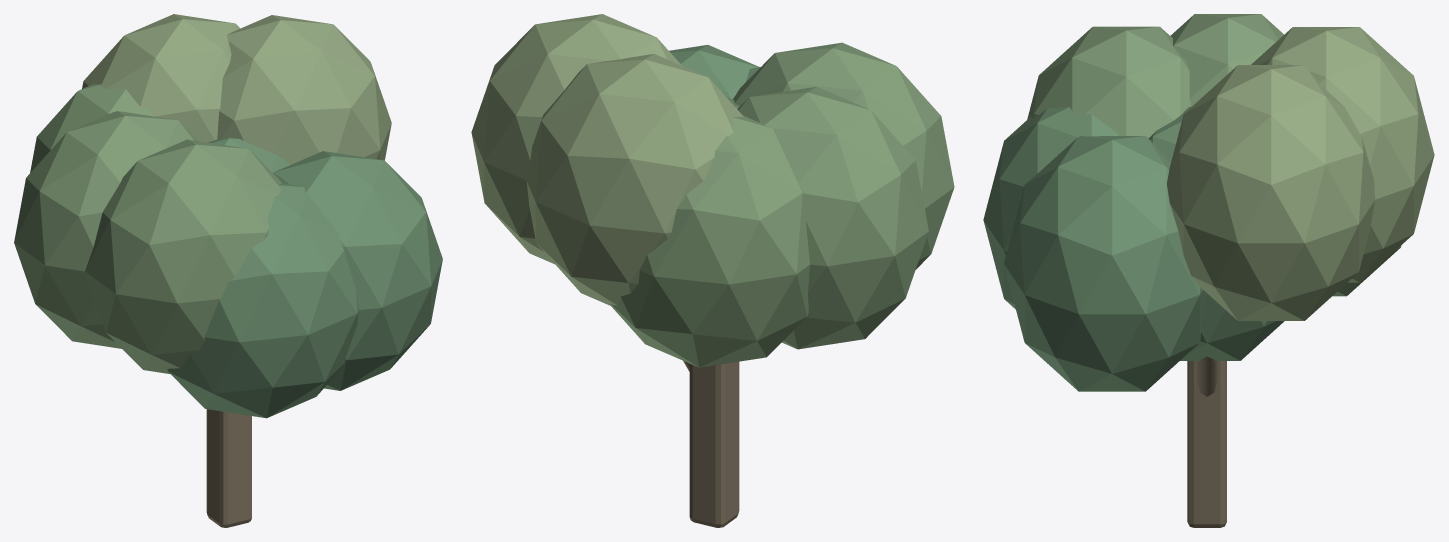
File: tree-broadleaf-high.glb
3 views of the same model, side by side, from view 1: azimuth 30°, elevation 25°; view 2: azimuth 150°, elevation 25°; view 3: azimuth 270°, elevation 25° (orthographic). The views are drawn at different scales.
Visible parts, largest first — view 1: core-Foliage 1-surfaces, core-Foliage 0-surfaces, core-Foliage 2-surfaces, core-Weathered bark-surfaces; view 2: core-Foliage 1-surfaces, core-Foliage 2-surfaces, core-Weathered bark-surfaces, core-Foliage 0-surfaces; view 3: core-Foliage 2-surfaces, core-Foliage 0-surfaces, core-Foliage 1-surfaces, core-Weathered bark-surfaces.
Boxes of the visible parts, bbox=[...] form: core-Foliage 1-surfaces: bbox=[14, 84, 281, 374]; core-Foliage 0-surfaces: bbox=[167, 137, 442, 418]; core-Foliage 2-surfaces: bbox=[82, 14, 391, 164]; core-Weathered bark-surfaces: bbox=[206, 409, 251, 527]; core-Foliage 1-surfaces: bbox=[611, 42, 954, 367]; core-Foliage 2-surfaces: bbox=[471, 14, 743, 306]; core-Weathered bark-surfaces: bbox=[683, 361, 739, 527]; core-Foliage 0-surfaces: bbox=[669, 45, 760, 108]; core-Foliage 2-surfaces: bbox=[1167, 27, 1434, 320]; core-Foliage 0-surfaces: bbox=[983, 106, 1284, 391]; core-Foliage 1-surfaces: bbox=[1027, 14, 1401, 296]; core-Weathered bark-surfaces: bbox=[1187, 356, 1226, 527].
Size of the model in its own units: 4.01 by 4.8 by 3.96.
